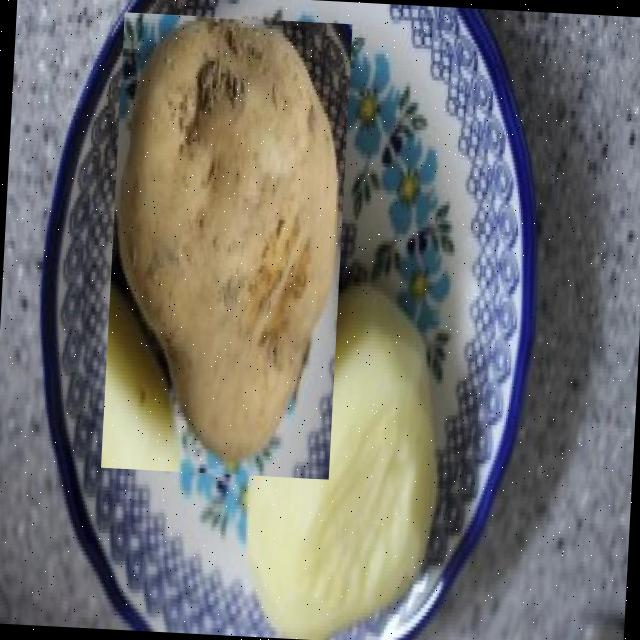Damaged potato: (100, 11, 352, 478)
Potato: (235, 276, 448, 640)
